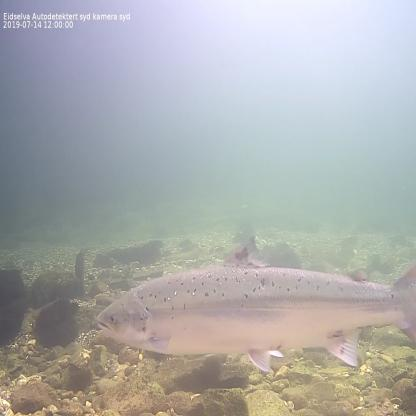salmon: (91, 224, 416, 375)
